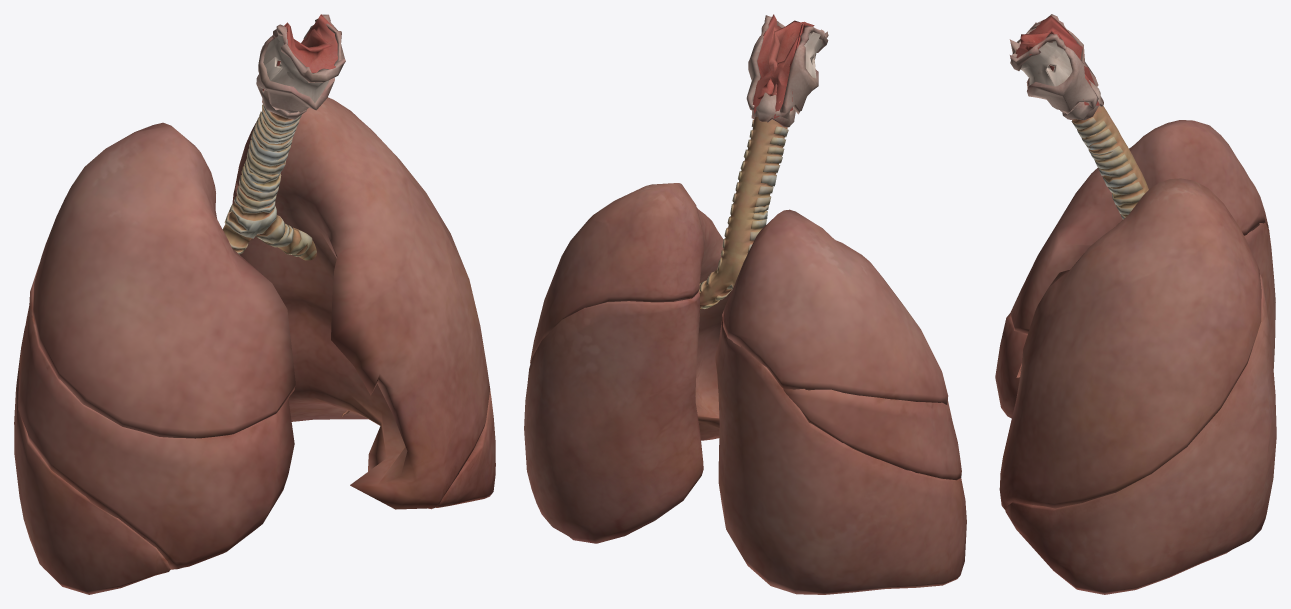
File: Lungs_12-11-2021.fbx
The picture shows the model from 3 angles, left to right: view 1: azimuth 30°, elevation 25°; view 2: azimuth 150°, elevation 25°; view 3: azimuth 270°, elevation 25°; orthographic projection. The views are drawn at different scales.
Parts seen in each view (by area): view 1: Respiratoy_Lung_Geo_Right, Respiratoy_Lung_Geo_Left, Respiratoy_Trachea_Geo, Respiratoy_Thyroid_Cartliage_Geo, Respiratoy_Epiglotis_Geo, Respiratoy_Thyroid_Membrane_Geo; view 2: Respiratoy_Lung_Geo_Right, Respiratoy_Lung_Geo_Left, Respiratoy_Trachea_Geo, Respiratoy_Thyroid_Cartliage_Geo, Respiratoy_Epiglotis_Geo; view 3: Respiratoy_Lung_Geo_Left, Respiratoy_Lung_Geo_Right, Respiratoy_Trachea_Geo, Respiratoy_Thyroid_Cartliage_Geo, Respiratoy_Thyroid_Membrane_Geo, Respiratoy_Epiglotis_Geo.
Boxes of the visible parts, <box> form: Respiratoy_Lung_Geo_Right: <box>14,122,295,594</box>; Respiratoy_Lung_Geo_Left: <box>232,97,495,509</box>; Respiratoy_Trachea_Geo: <box>222,104,316,260</box>; Respiratoy_Thyroid_Cartliage_Geo: <box>256,14,345,119</box>; Respiratoy_Epiglotis_Geo: <box>263,14,337,90</box>; Respiratoy_Thyroid_Membrane_Geo: <box>263,32,329,102</box>; Respiratoy_Lung_Geo_Right: <box>715,209,966,594</box>; Respiratoy_Lung_Geo_Left: <box>524,183,731,543</box>; Respiratoy_Trachea_Geo: <box>699,116,788,310</box>; Respiratoy_Thyroid_Cartliage_Geo: <box>746,15,828,127</box>; Respiratoy_Epiglotis_Geo: <box>752,14,814,118</box>; Respiratoy_Lung_Geo_Left: <box>999,178,1276,594</box>; Respiratoy_Lung_Geo_Right: <box>995,120,1275,418</box>; Respiratoy_Trachea_Geo: <box>1071,106,1148,219</box>; Respiratoy_Thyroid_Cartliage_Geo: <box>1009,14,1103,120</box>; Respiratoy_Thyroid_Membrane_Geo: <box>1020,41,1072,86</box>; Respiratoy_Epiglotis_Geo: <box>1015,15,1099,105</box>.
Size of the model in its own units: 28.91 by 33.25 by 17.66.
Materials: 3 (3 with a texture image).
